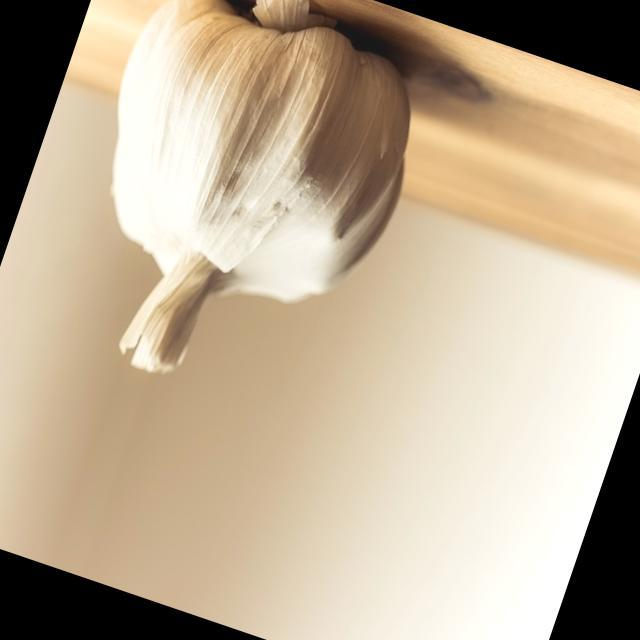garlic: (112, 0, 410, 372)
